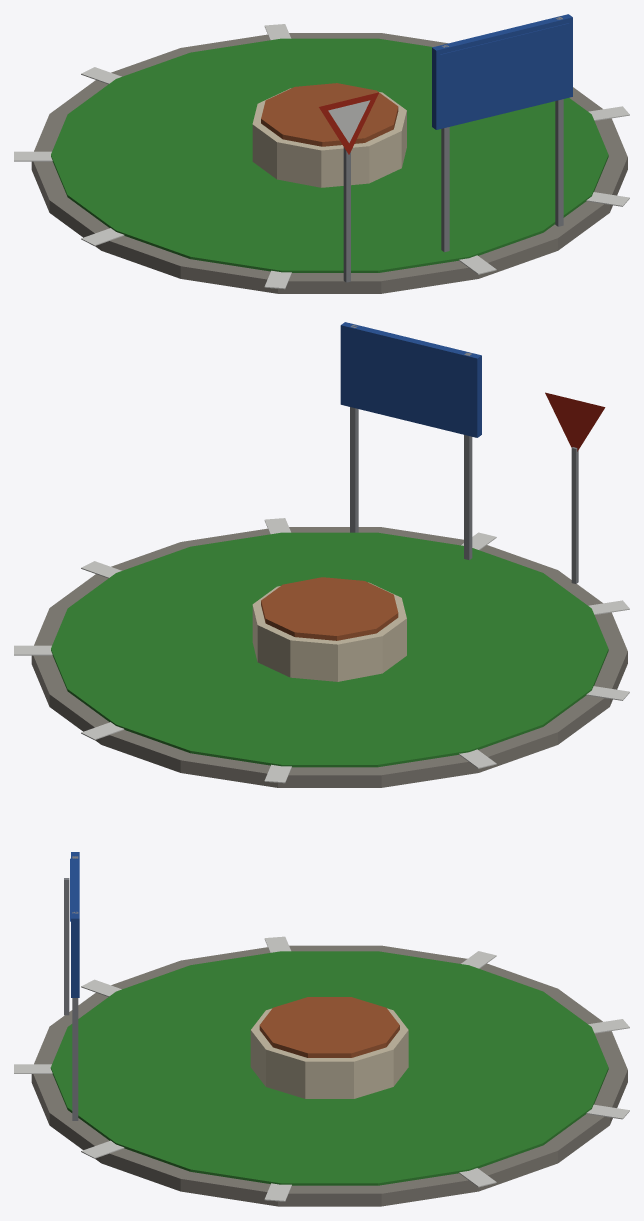
The model's file is prop_roundabout.glb.
3 renders of one model, top to bottom at view 1: azimuth 30°, elevation 25°; view 2: azimuth 150°, elevation 25°; view 3: azimuth 270°, elevation 25°, orthographic.
Visible parts, largest first — view 1: body; view 2: body; view 3: body.
Boxes of the visible parts, x1,y1,x2,y2 form: body: (14, 14, 629, 293); body: (14, 322, 629, 787); body: (14, 852, 629, 1206).
Bounding box in the file's own units: 7.13 × 2.76 × 7.02.
